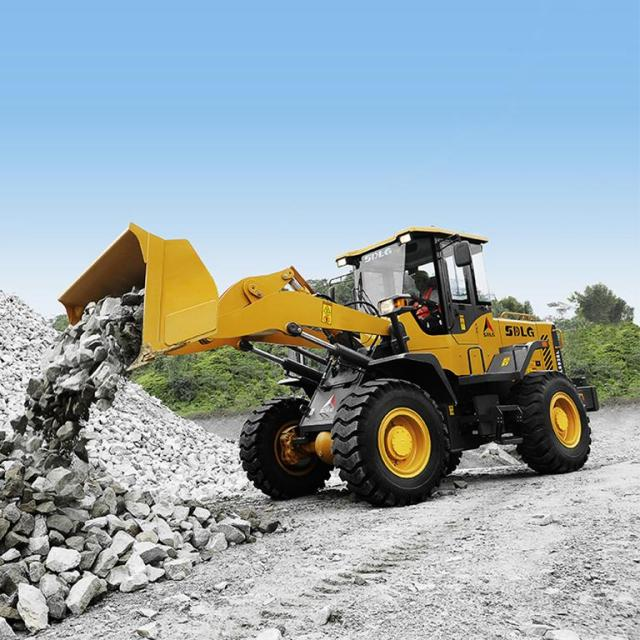buldozerpayloadergrader: (52, 217, 601, 490)
